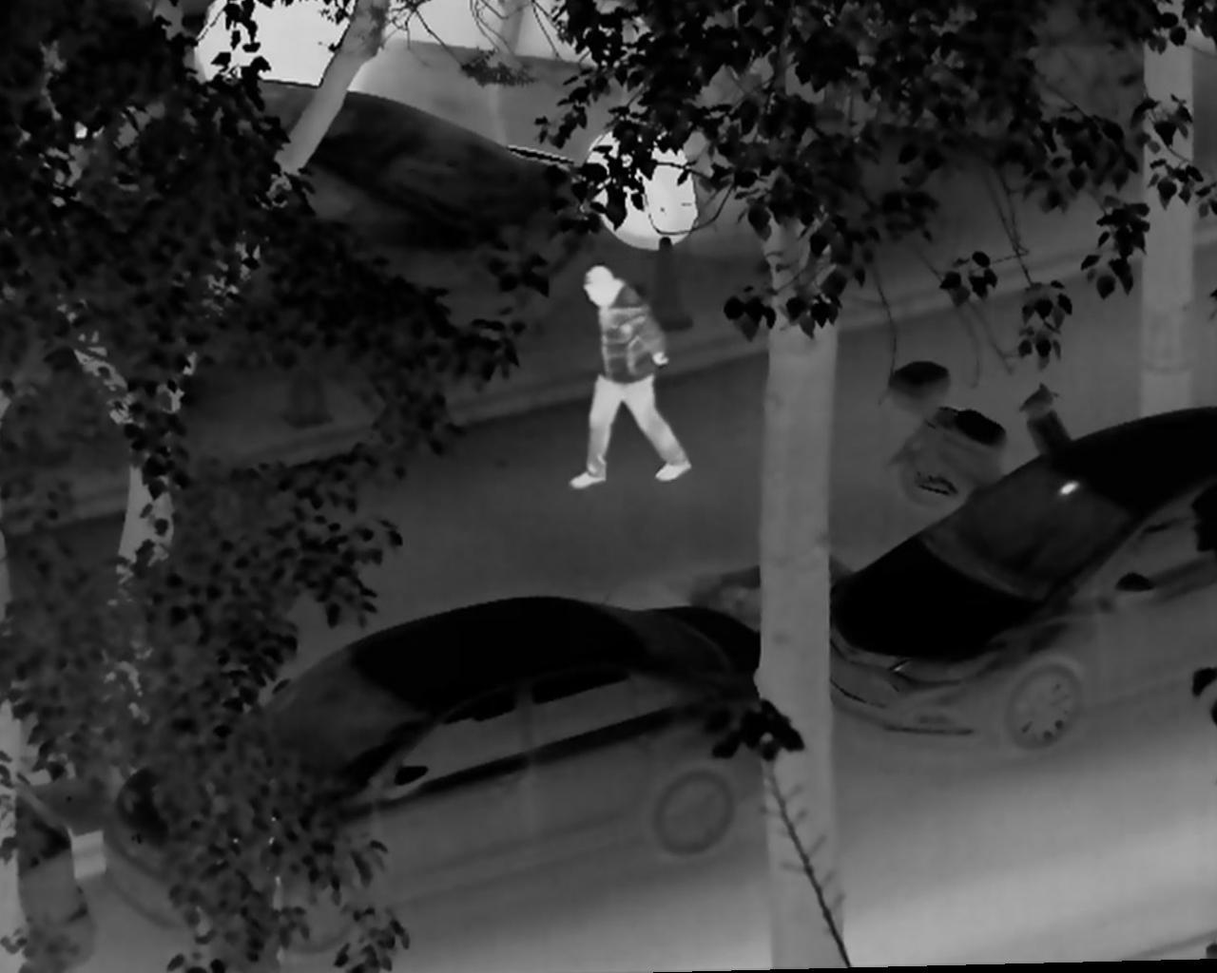person: (562, 262, 689, 492)
